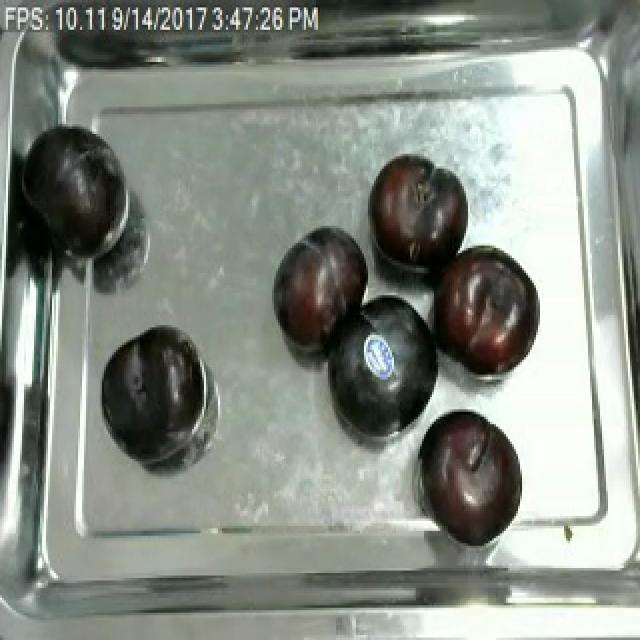Fruit: (318, 288, 446, 447), (18, 119, 134, 265), (412, 404, 524, 548), (434, 238, 542, 385), (266, 220, 376, 360), (98, 320, 202, 464), (364, 152, 472, 276)
